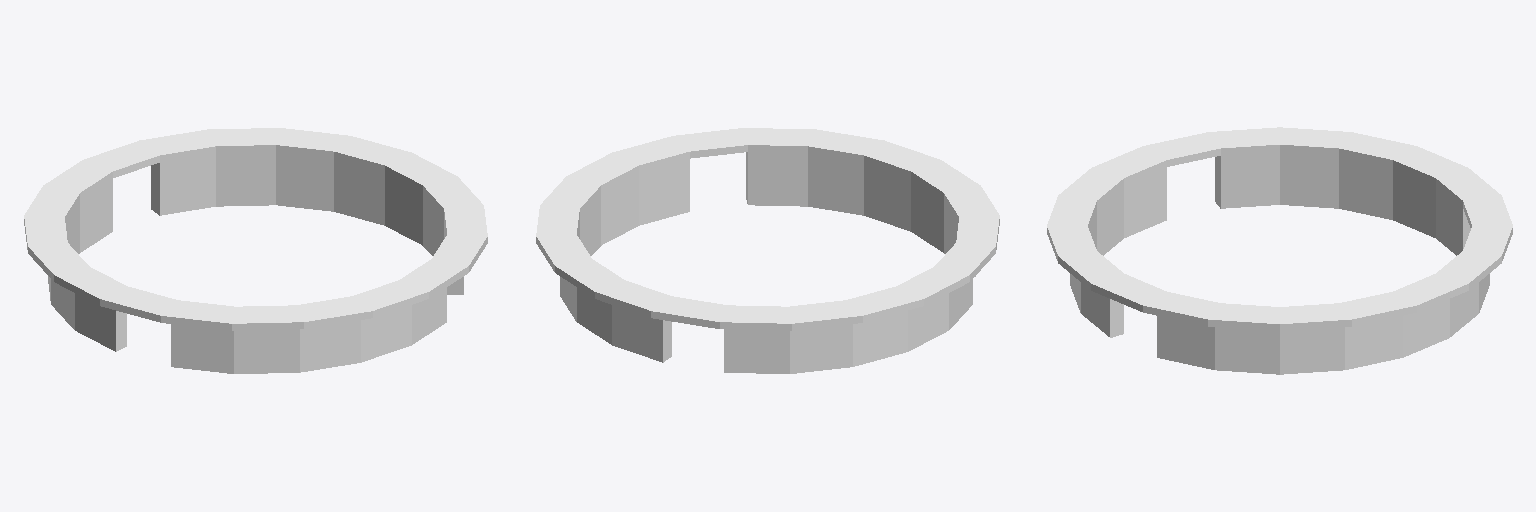
Rendered from ServingBar.obj.
3 renders of one model, left to right at view 1: azimuth 30°, elevation 25°; view 2: azimuth 150°, elevation 25°; view 3: azimuth 270°, elevation 25°, orthographic.
Visible parts, largest first — view 1: Cylinder; view 2: Cylinder; view 3: Cylinder.
Part boxes in pixels (bbox=[...]): Cylinder: bbox=[24, 128, 487, 373]; Cylinder: bbox=[536, 128, 999, 373]; Cylinder: bbox=[1047, 127, 1512, 374].
Size of the model in its own units: 7.27 by 1.04 by 7.27.